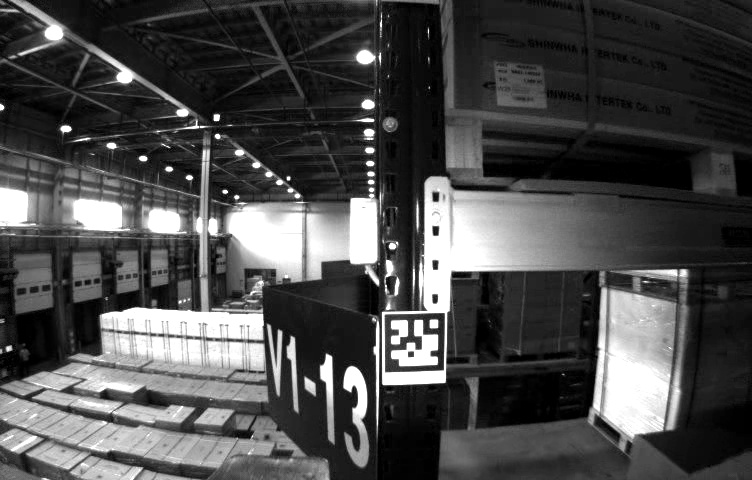True Barcode: (492, 61, 550, 109)
